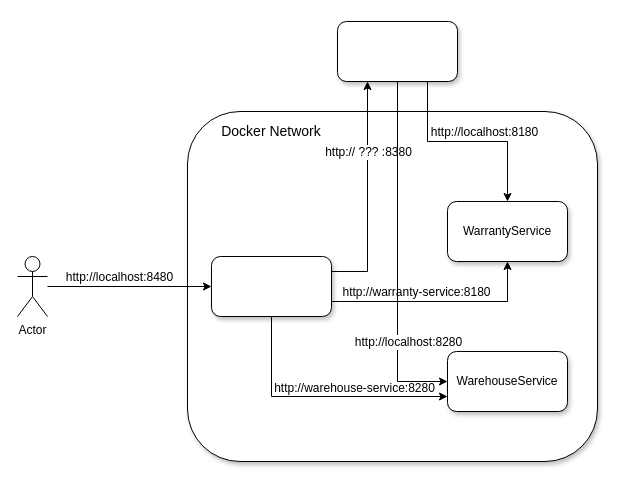
The diagram is 621 pixels wide and 486 high, and some of its shapes have lost their labels. Here are the shapes that lost their labels. From the top down, the centre of each, then its label:
point (398, 52): OrderService
point (272, 288): StoreService
